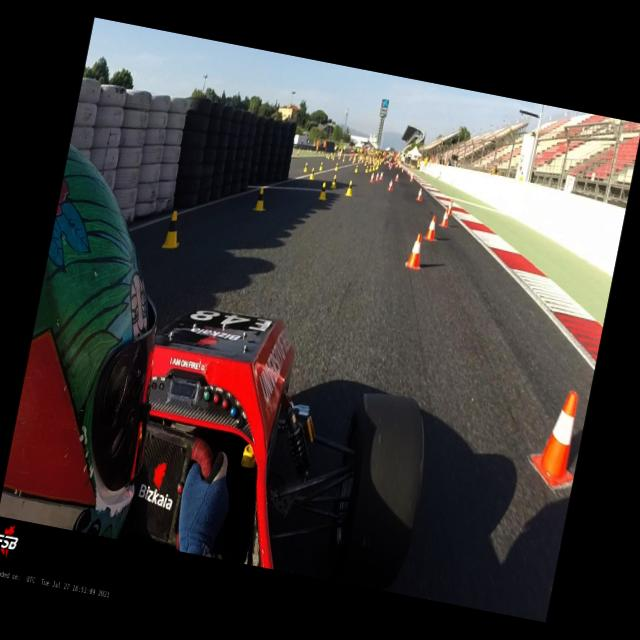orange_cone: (526, 387, 590, 490), (406, 233, 426, 270), (424, 214, 441, 242), (439, 207, 452, 228), (415, 188, 424, 202), (448, 200, 454, 216), (388, 179, 394, 192), (370, 172, 376, 184), (394, 172, 400, 182), (379, 171, 384, 181), (375, 172, 380, 182)
yellow_cone: (161, 210, 185, 251), (253, 186, 270, 212), (318, 182, 329, 202), (345, 180, 354, 197), (330, 174, 338, 189), (308, 168, 316, 180), (319, 161, 324, 171), (334, 162, 339, 172), (304, 162, 308, 173), (354, 165, 358, 172), (364, 165, 368, 172), (368, 165, 372, 172), (372, 165, 375, 171)
